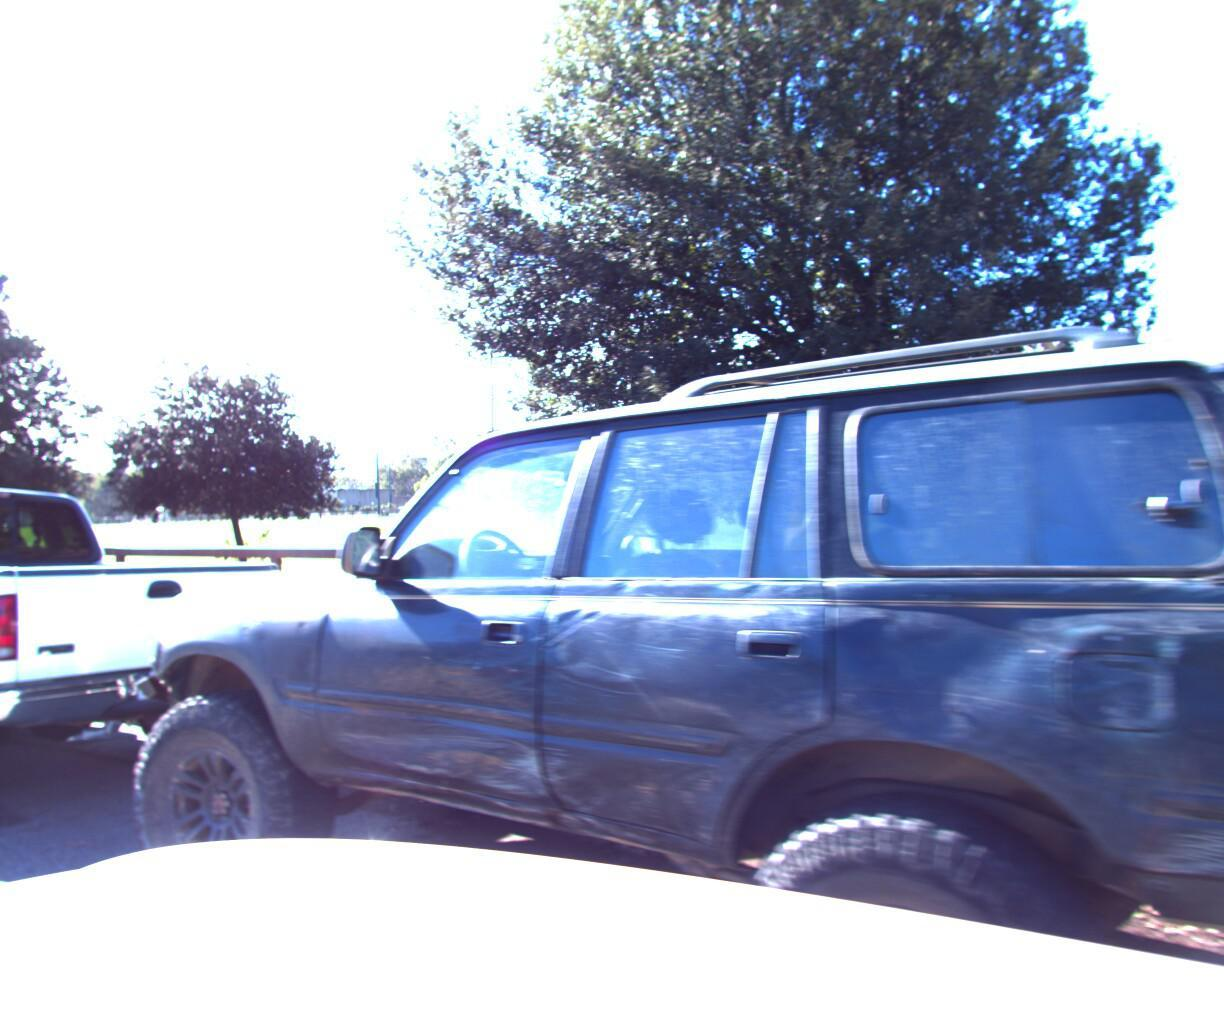car: (60, 210, 1224, 1024), (0, 463, 314, 866)
